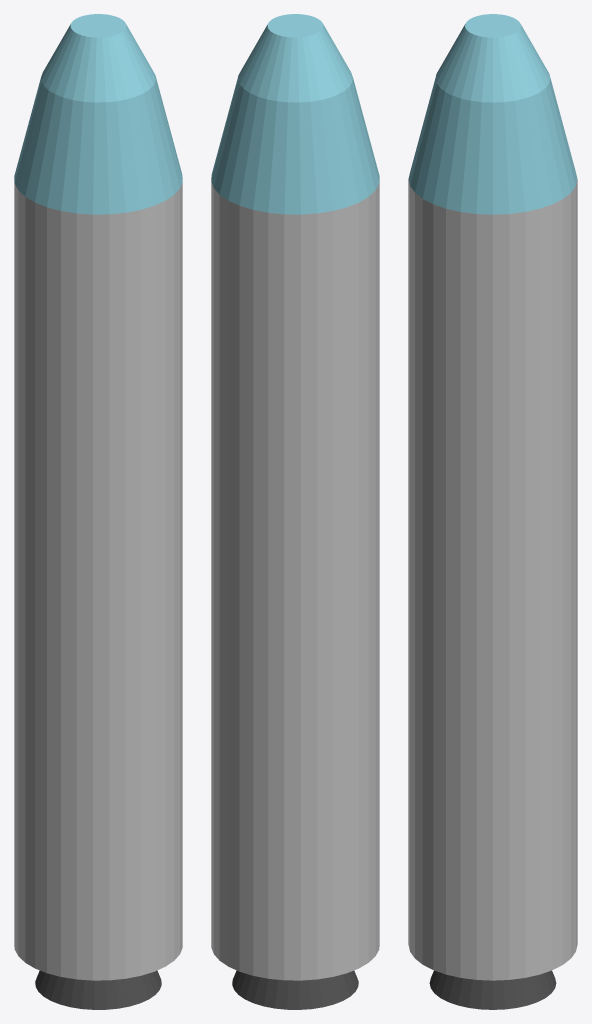
The model's file is rocket.glb.
The picture shows the model from 3 angles, left to right: view 1: azimuth 30°, elevation 25°; view 2: azimuth 150°, elevation 25°; view 3: azimuth 270°, elevation 25°; orthographic projection.
Visible parts, largest first — view 1: Cylinder, Cylinder.001, Cone; view 2: Cylinder, Cylinder.001, Cone; view 3: Cylinder, Cylinder.001, Cone.
Part boxes in pixels (<box>): Cylinder: <box>14,181,182,980</box>; Cylinder.001: <box>14,14,182,214</box>; Cone: <box>35,970,161,1009</box>; Cylinder: <box>211,181,379,980</box>; Cylinder.001: <box>211,14,379,214</box>; Cone: <box>232,970,358,1009</box>; Cylinder: <box>408,179,577,980</box>; Cylinder.001: <box>408,14,577,214</box>; Cone: <box>429,970,556,1009</box>.
Size of the model in its own units: 0.4 by 2.5 by 0.4.
